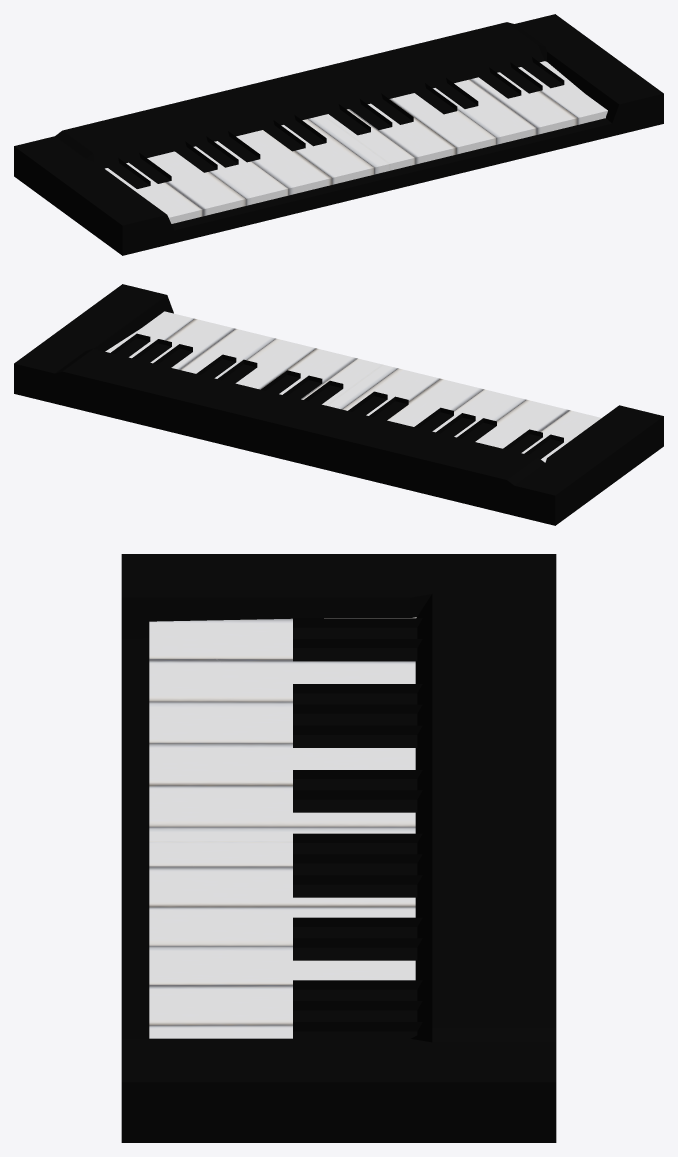
Rendered from keyboardPianofbx.fbx.
3 renders of one model, top to bottom at view 1: azimuth 30°, elevation 25°; view 2: azimuth 150°, elevation 25°; view 3: azimuth 270°, elevation 25°, orthographic. The views are drawn at different scales.
Visible parts, largest first — view 1: Cube.016, Cube.017; view 2: Cube.016, Cube.017; view 3: Cube.016, Cube.017.
Boxes of the visible parts, x1,y1,x2,y2 form: Cube.016: (14, 14, 663, 255); Cube.017: (105, 57, 607, 223); Cube.016: (14, 284, 663, 525); Cube.017: (105, 311, 601, 462); Cube.016: (121, 554, 556, 1142); Cube.017: (149, 617, 422, 1038).
Size of the model in its own units: 450 by 27.06 by 156.
Materials: 3 (1 with a texture image).
